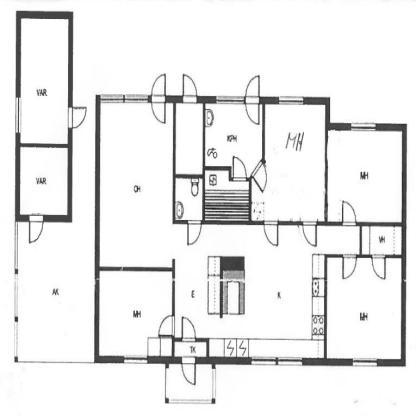door: (147, 71, 170, 126), (244, 72, 264, 128), (180, 71, 200, 107), (183, 218, 206, 249), (299, 217, 320, 250), (341, 198, 362, 231), (67, 102, 90, 132), (261, 217, 283, 248), (180, 355, 200, 389), (26, 212, 47, 244), (250, 157, 268, 193), (369, 252, 390, 282), (229, 154, 250, 184), (156, 311, 176, 341), (179, 313, 198, 344), (341, 252, 359, 282)
window: (249, 351, 304, 372), (99, 90, 149, 106), (12, 92, 24, 138), (348, 356, 382, 372), (120, 351, 150, 369), (348, 118, 380, 134), (276, 91, 310, 106), (214, 92, 247, 107)
